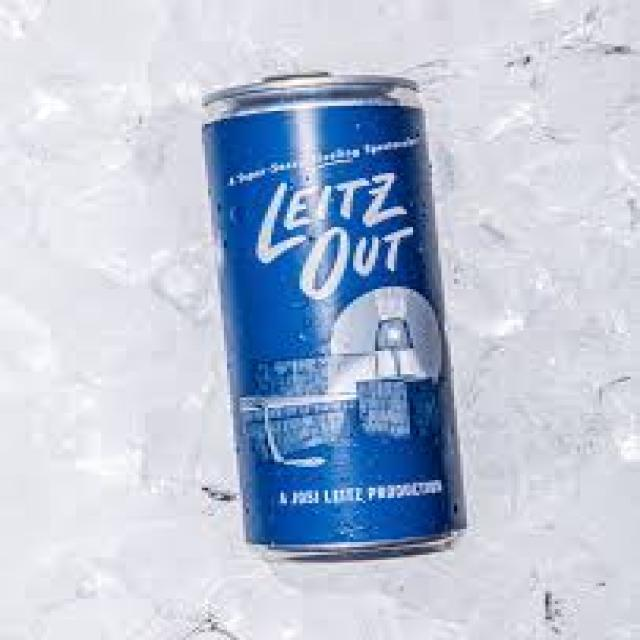Cans: (180, 65, 488, 578)
